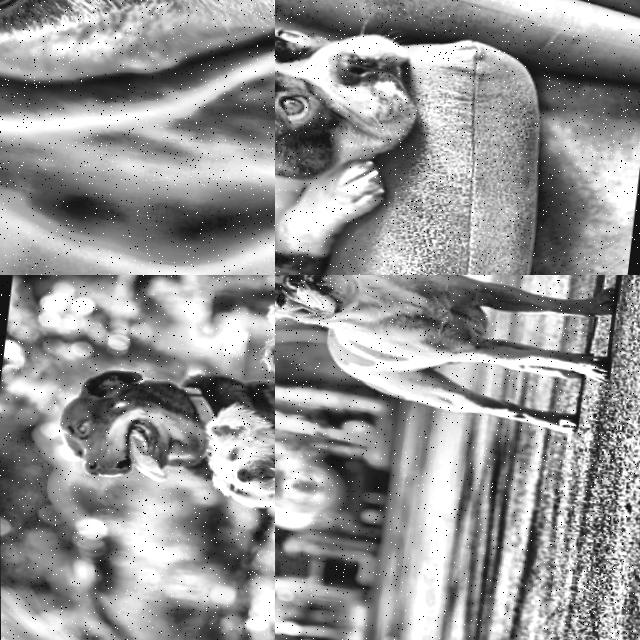beagle: (0, 0, 275, 275)
bulldog: (275, 0, 440, 252), (275, 275, 386, 352)
rottweiler: (35, 354, 197, 505)
